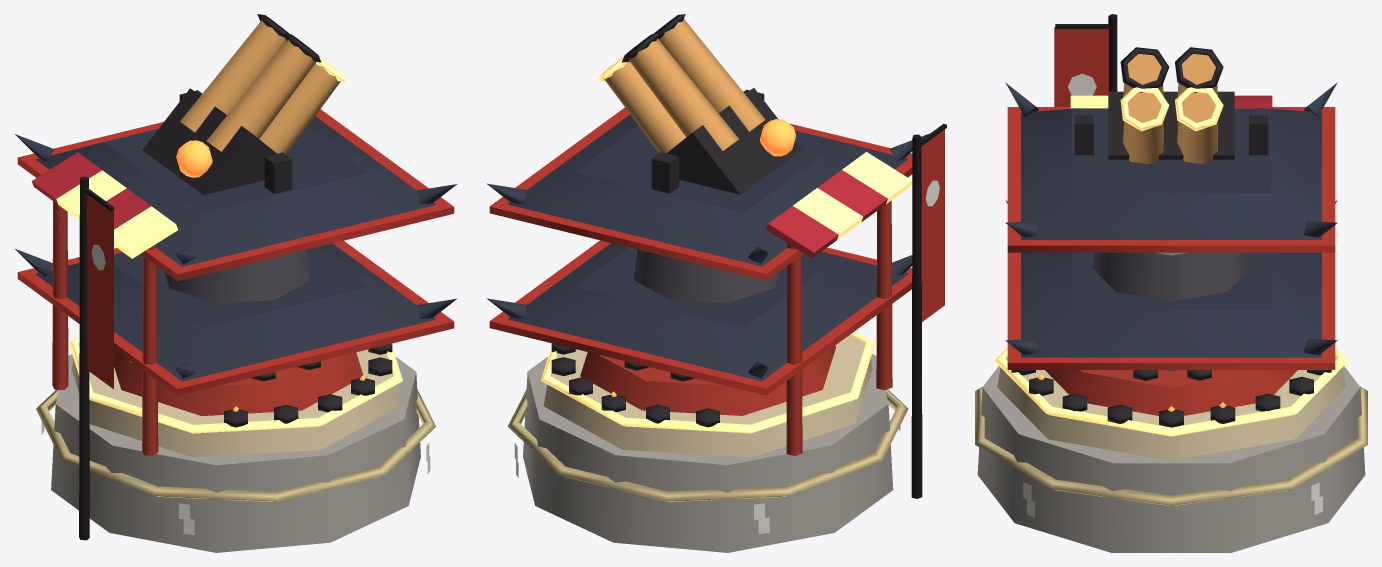
Rendered from tower_mine_carpet.glb.
3 renders of one model, left to right at view 1: azimuth 30°, elevation 25°; view 2: azimuth 150°, elevation 25°; view 3: azimuth 270°, elevation 25°, orthographic. The views are drawn at different scales.
Visible parts, largest first — view 1: base, deco_eave_0_roof, deco_eave_1_roof, stall_tier_low, deco_eave_1_rim, stall_tier_high, deco_eave_0_rim, launcher_breech, deco_shimenawa_rope, deco_nobori_cloth, launcher_drum, launch_tube_2 (+14 smaller); view 2: base, deco_eave_1_roof, deco_eave_0_roof, stall_tier_low, deco_eave_1_rim, stall_tier_high, deco_eave_0_rim, launcher_breech, deco_shimenawa_rope, launcher_drum, launch_tube_3, deco_nobori_cloth (+14 smaller); view 3: base, deco_eave_0_roof, deco_eave_1_roof, stall_tier_low, deco_eave_0_rim, stall_tier_high, deco_eave_1_rim, launcher_drum, deco_shimenawa_rope, stall_trim, deco_nobori_cloth, launcher_breech (+16 smaller).
Boxes of the visible parts, x1,y1,x2,y2 form: base: (51,354,420,552); deco_eave_0_roof: (35,116,436,266); deco_eave_1_roof: (35,243,436,381); stall_tier_low: (71,343,400,457); deco_eave_1_rim: (17,240,454,395); stall_tier_high: (114,349,363,415); deco_eave_0_rim: (17,109,454,281); launcher_breech: (142,88,276,194); deco_shimenawa_rope: (36,389,435,501); deco_nobori_cloth: (87,194,113,389); launcher_drum: (164,250,309,303); launch_tube_2: (207,39,315,151); base: (523,354,893,552); deco_eave_1_roof: (507,243,908,381); deco_eave_0_roof: (507,114,908,266); stall_tier_low: (543,334,872,456); deco_eave_1_rim: (489,240,912,395); stall_tier_high: (580,345,835,415); deco_eave_0_rim: (489,107,912,280); launcher_breech: (667,88,801,194); deco_shimenawa_rope: (507,389,908,501); launcher_drum: (633,249,779,302); launch_tube_3: (629,38,738,150); deco_nobori_cloth: (921,129,944,321); base: (977,366,1365,552); deco_eave_0_roof: (1021,108,1321,239); deco_eave_1_roof: (1021,252,1321,357); stall_tier_low: (997,356,1345,460); deco_eave_0_rim: (1007,107,1335,252); stall_tier_high: (1045,370,1297,415); deco_eave_1_rim: (1007,252,1335,369); launcher_drum: (1092,252,1250,371); deco_shimenawa_rope: (975,387,1367,506); stall_trim: (994,347,1348,436); deco_nobori_cloth: (1054,27,1108,106); launcher_breech: (1108,91,1234,159).
Size of the model in its own units: 0.4387 by 0.5095 by 0.4052.
